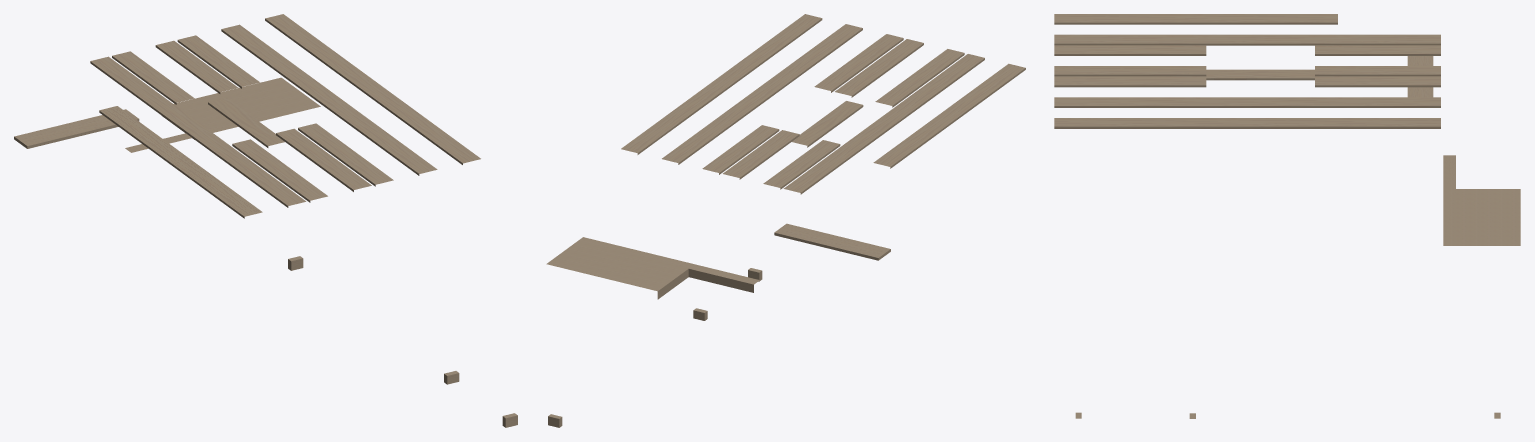
File: kd_stage_135b75_4_15_bounded.glb
3 renders of one model, left to right at view 1: azimuth 30°, elevation 25°; view 2: azimuth 150°, elevation 25°; view 3: azimuth 270°, elevation 25°, orthographic. The views are drawn at different scales.
Visible parts, largest first — view 1: kd_stage_135b75_4_15_bounded; view 2: kd_stage_135b75_4_15_bounded; view 3: kd_stage_135b75_4_15_bounded.
Part boxes in pixels (left/top/right/bottom): kd_stage_135b75_4_15_bounded: left=14, top=14, right=517, bottom=427; kd_stage_135b75_4_15_bounded: left=546, top=14, right=1025, bottom=427; kd_stage_135b75_4_15_bounded: left=1054, top=14, right=1520, bottom=418.
Size of the model in its own units: 3.48 by 2.97 by 4.5.
Materials: 1 (1 with a texture image).
